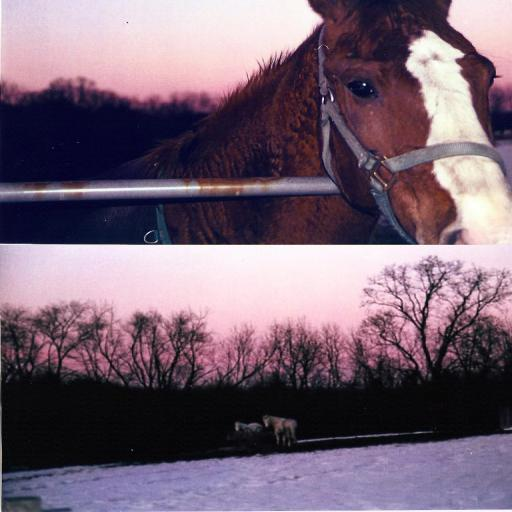horse: (86, 0, 512, 246), (260, 414, 298, 450), (230, 421, 264, 443)
